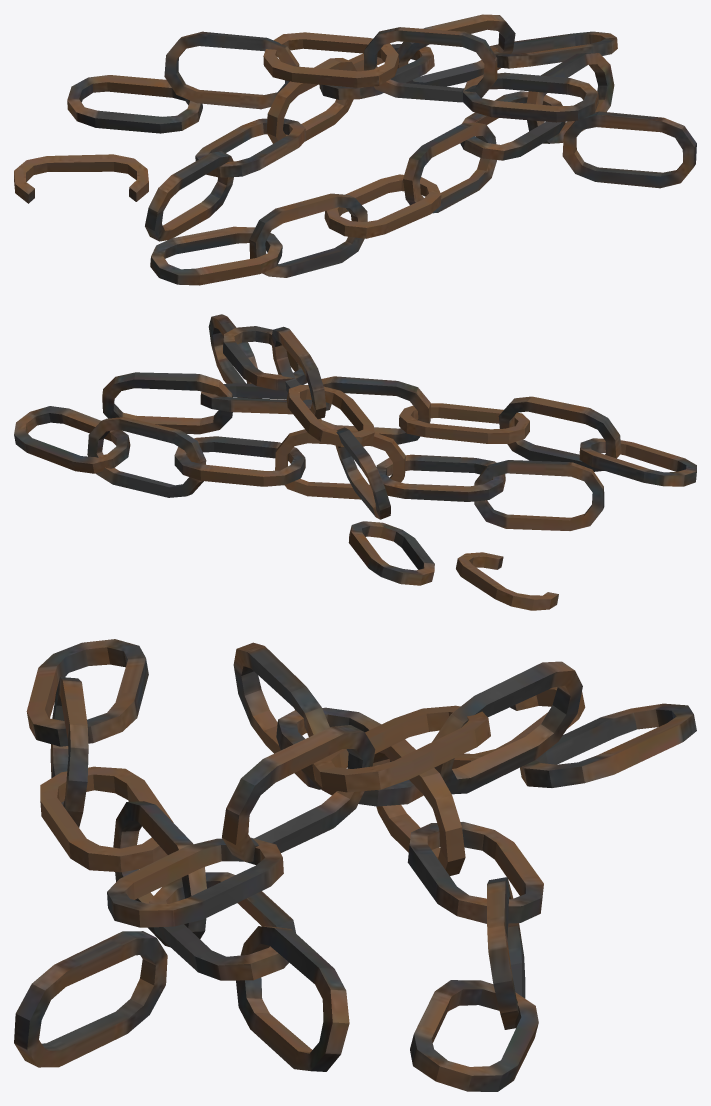
The model's file is Y26_chains_pile.glb.
3 views of the same model, one above another, from view 1: azimuth 30°, elevation 25°; view 2: azimuth 150°, elevation 25°; view 3: azimuth 270°, elevation 25° (orthographic). The views are drawn at different scales.
Visible parts, largest first — view 1: Abandoned_Factory_Chain_Pile; view 2: Abandoned_Factory_Chain_Pile; view 3: Abandoned_Factory_Chain_Pile.
Part boxes in pixels (x1,y1,x2,y2): Abandoned_Factory_Chain_Pile: (14,14,696,285); Abandoned_Factory_Chain_Pile: (14,314,696,610); Abandoned_Factory_Chain_Pile: (14,639,696,1091).
Size of the model in its own units: 0.8 by 0.1854 by 0.5296.
2 materials, 2 textured.
